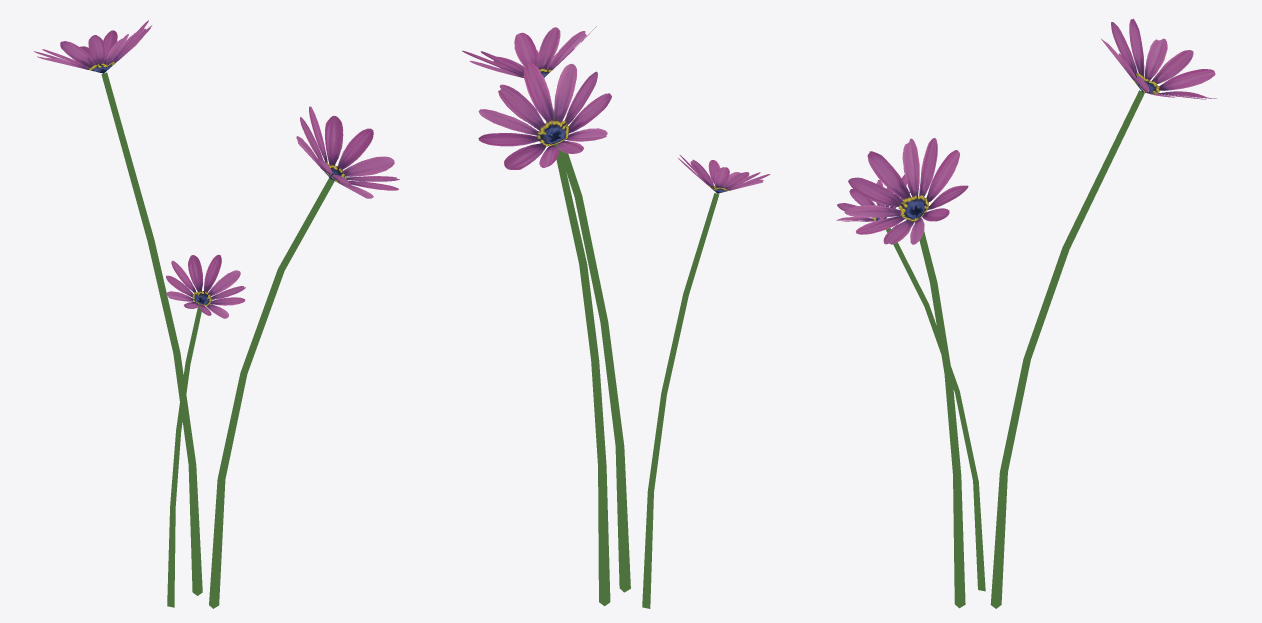
The model's file is SM_Flower_06_01.fbx.
3 renders of one model, left to right at view 1: azimuth 30°, elevation 25°; view 2: azimuth 150°, elevation 25°; view 3: azimuth 270°, elevation 25°, orthographic. The views are drawn at different scales.
Visible parts, largest first — view 1: SM_Flower_06_01_LOD0; view 2: SM_Flower_06_01_LOD0; view 3: SM_Flower_06_01_LOD0.
Boxes of the visible parts, x1,y1,x2,y2 form: SM_Flower_06_01_LOD0: (34,20,399,608); SM_Flower_06_01_LOD0: (462,26,770,608); SM_Flower_06_01_LOD0: (836,18,1216,608).
Size of what is drawn, in the model's own units: 34.43 by 63.43 by 43.21.
